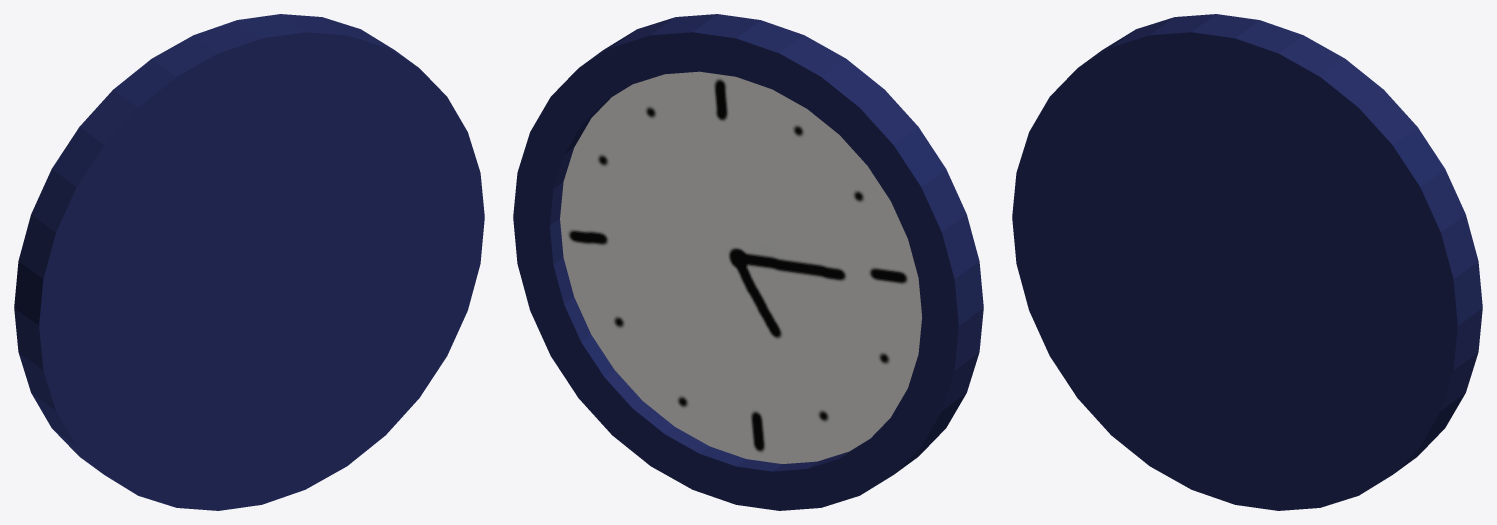
File: Clocks.fbx
3 renders of one model, left to right at view 1: azimuth 30°, elevation 25°; view 2: azimuth 150°, elevation 25°; view 3: azimuth 330°, elevation 25°, orthographic.
Parts seen in each view (by area): view 1: Clocks; view 2: Clocks; view 3: Clocks.
Boxes of the visible parts, x1,y1,x2,y2 form: Clocks: (14, 14, 484, 510); Clocks: (513, 14, 983, 510); Clocks: (1012, 14, 1482, 510).
Bounding box in the file's own units: 0.4671 × 0.4671 × 0.0453.
